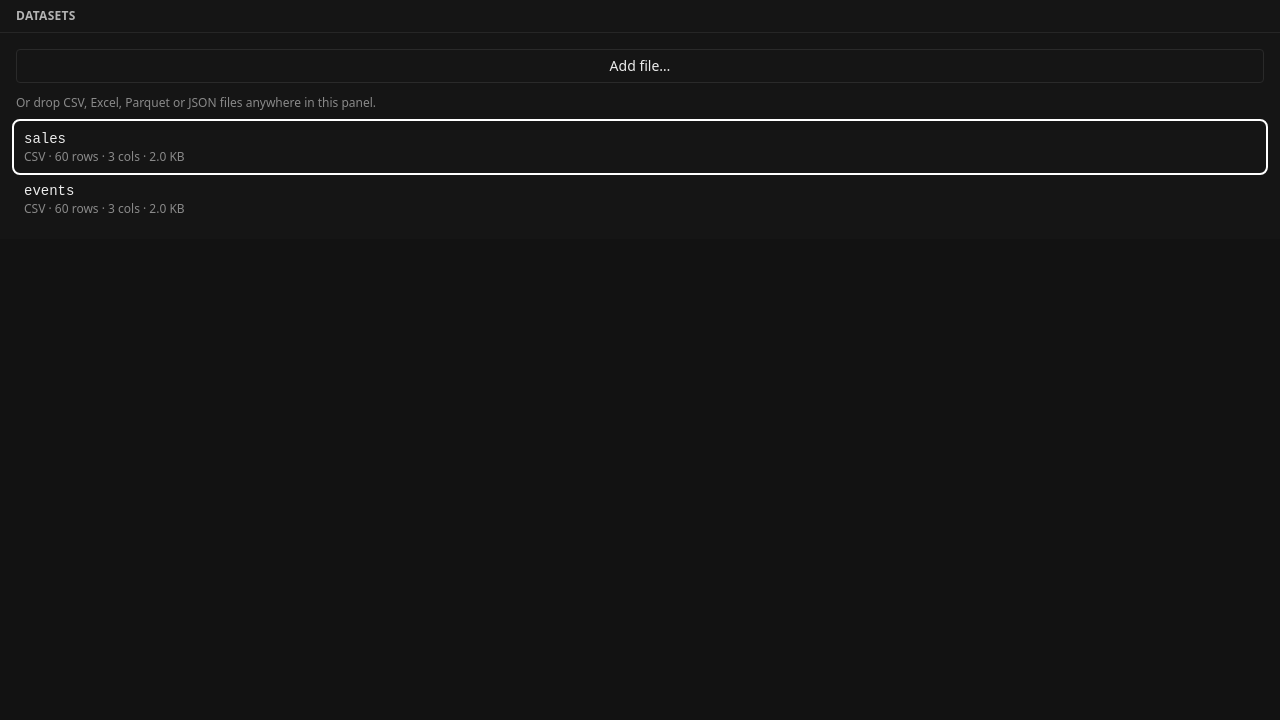
Test: removing a dataset › shows why a removal failed
Expected: the text "sales" is shown, [24,131,66,147]
Press Delete
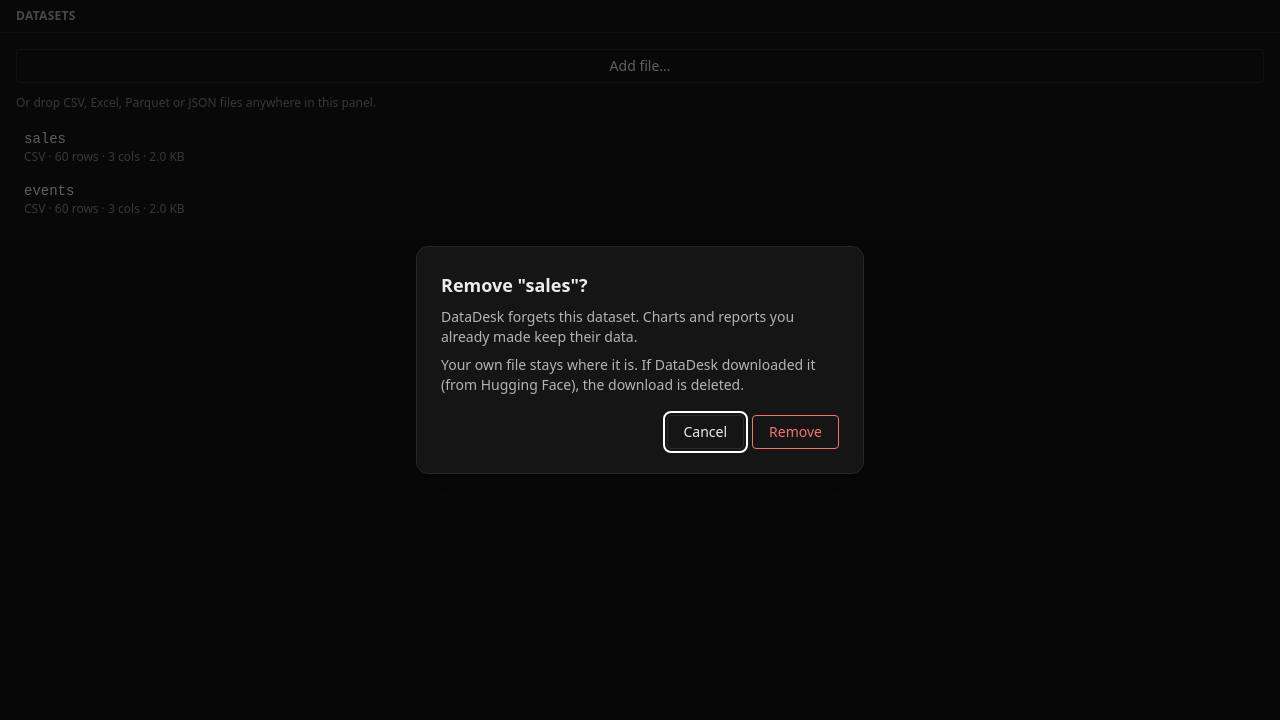
Click the button "Remove". click: coordinates (796, 432)
box: [752,415,839,449]
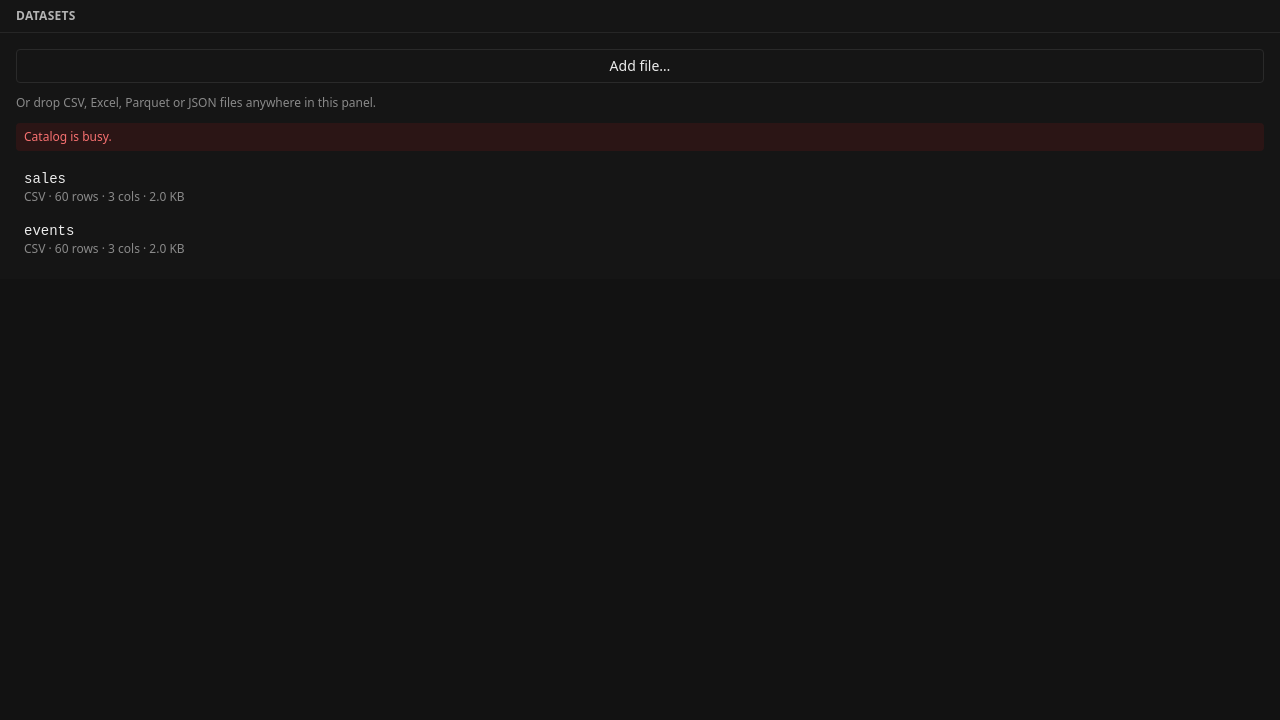
Expected: the text "sales" is shown, [24,171,66,187]
Result: the message reads "Catalog is busy." at [24,128,112,145]
